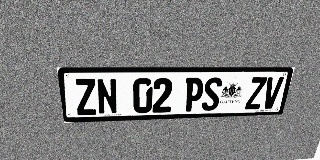0: (133, 78, 153, 113)
2: (152, 78, 173, 113)
N: (96, 78, 118, 115)
P: (183, 77, 204, 112)
S: (201, 77, 223, 111)
V: (261, 77, 284, 109)
Z: (74, 78, 98, 115), (245, 77, 267, 109)
